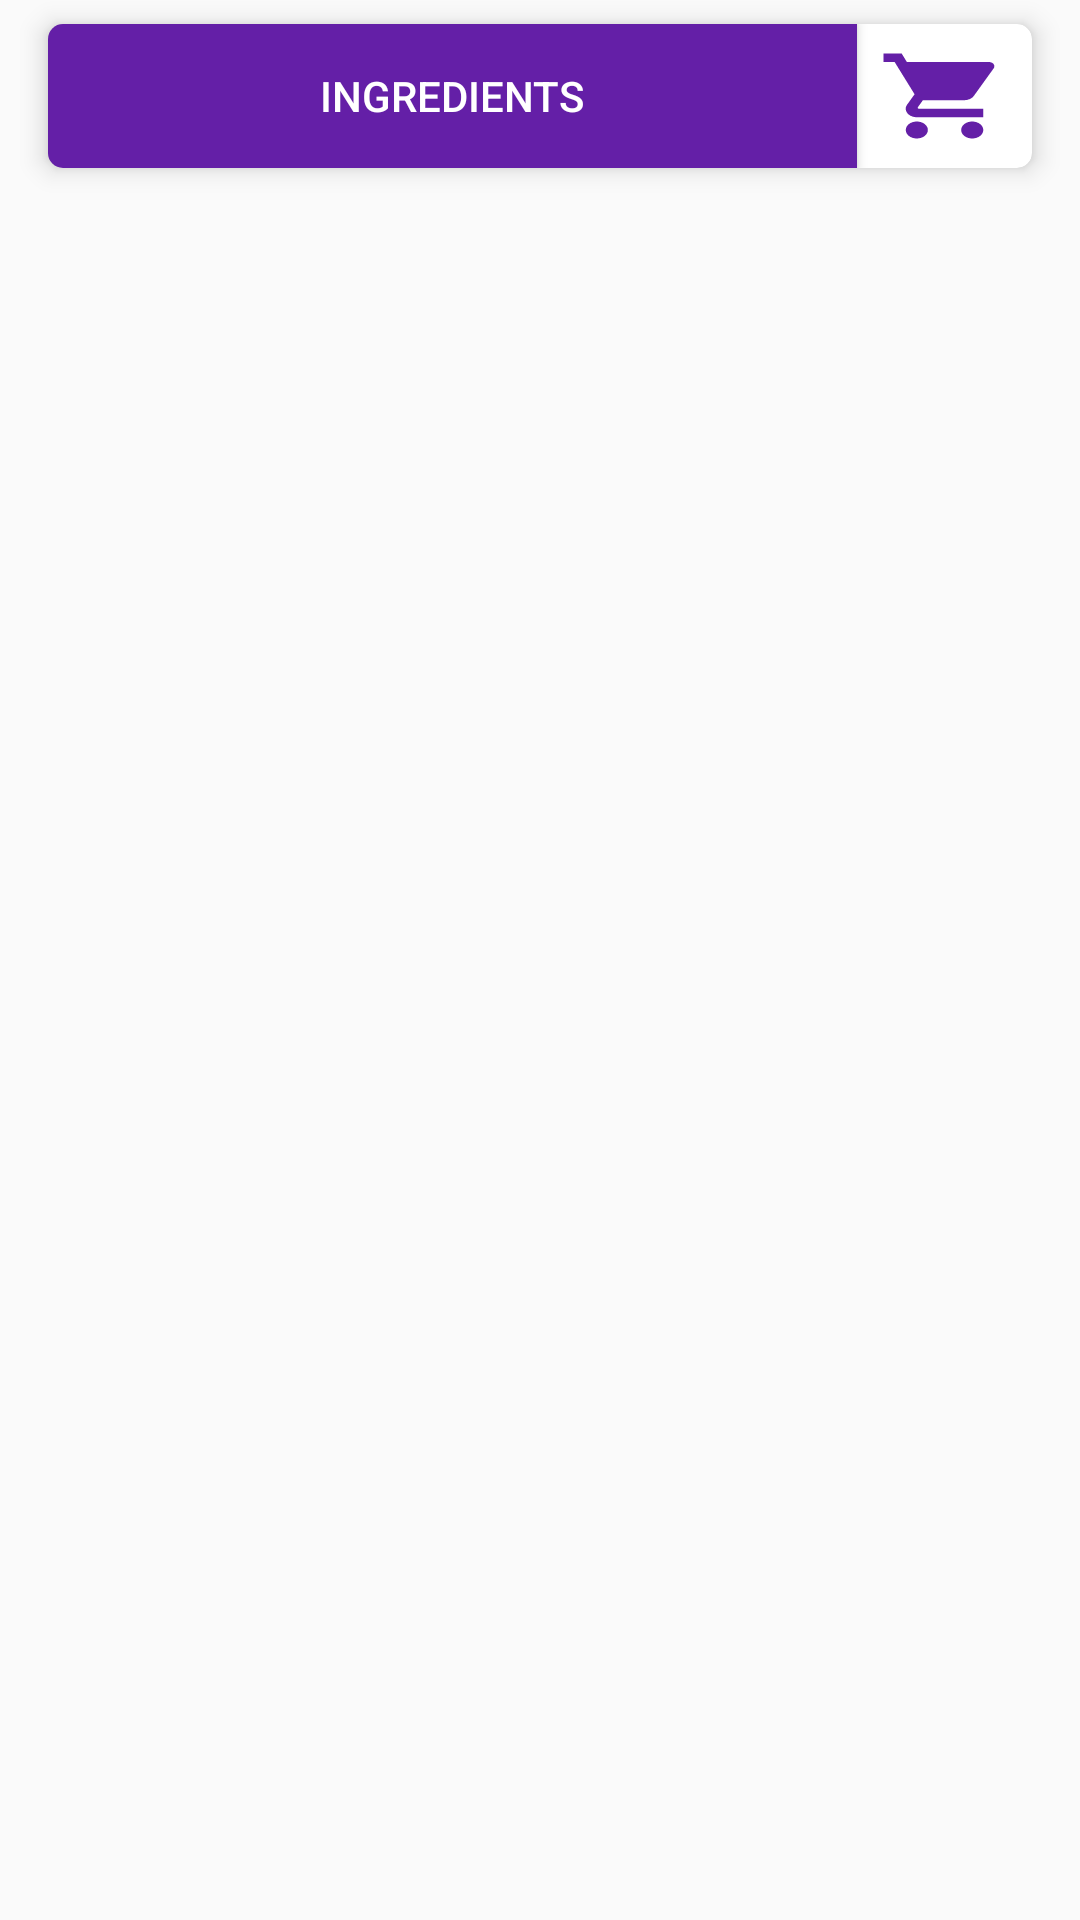

Point at icon controls on the screen. Image size 1080 × 1920, points as point (x, y).
local grocery store: point (939, 96)
